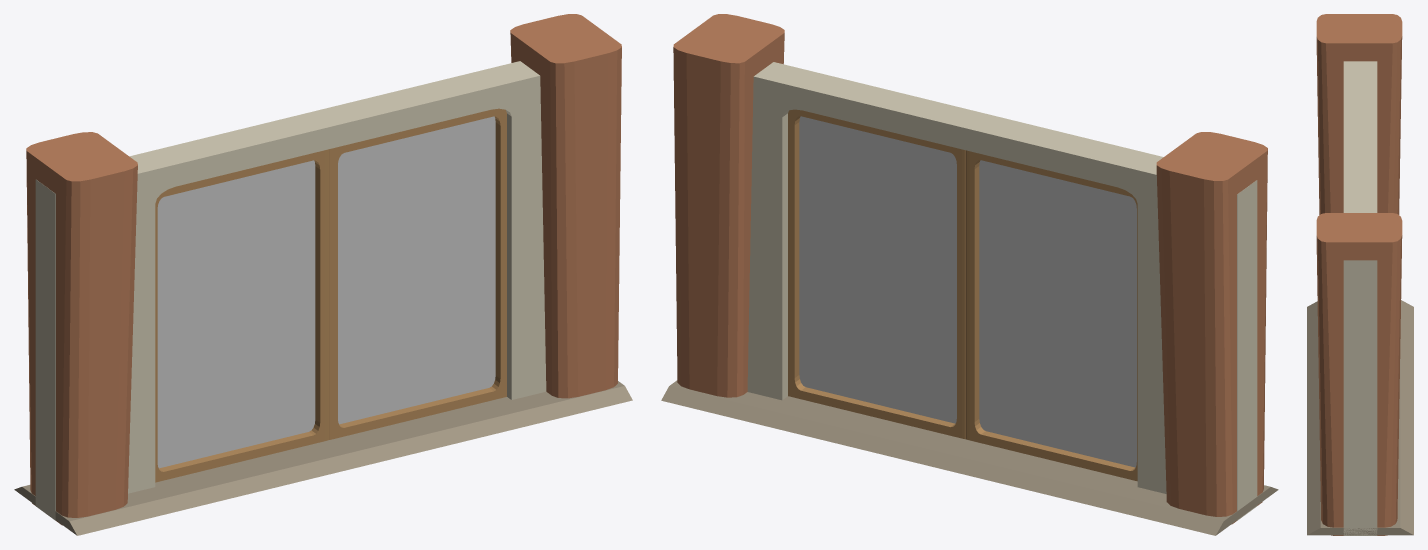
File: OfficeDoor.fbx
3 views of the same model, side by side, from view 1: azimuth 30°, elevation 25°; view 2: azimuth 150°, elevation 25°; view 3: azimuth 270°, elevation 25° (orthographic). The views are drawn at different scales.
Parts seen in each view (by area): view 1: bigdoor.010, bigdoor.012, bigdoor.011; view 2: bigdoor.010, bigdoor.012, bigdoor.011; view 3: bigdoor.010.
Boxes of the visible parts, x1,y1,x2,y2 form: bigdoor.010: (14,14,632,535); bigdoor.012: (329,108,506,439); bigdoor.011: (155,149,328,482); bigdoor.010: (661,14,1278,535); bigdoor.012: (788,109,965,439); bigdoor.011: (966,150,1137,481); bigdoor.010: (1307,14,1413,535).
Size of the model in its own units: 4 by 2.4 by 0.791.
